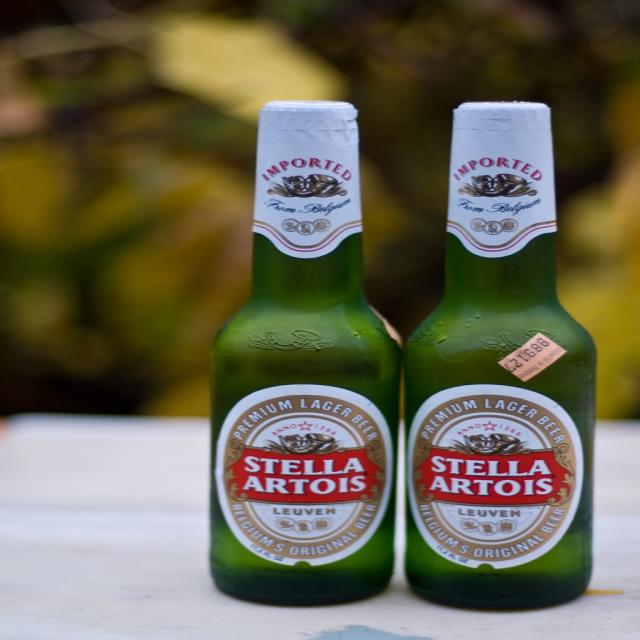stellaartois: (413, 396, 580, 564), (222, 397, 389, 562)
